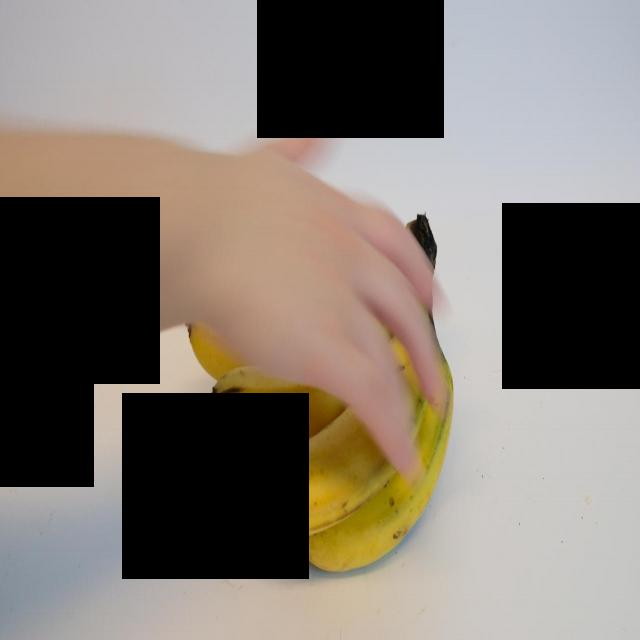banana: (258, 339, 430, 550)
